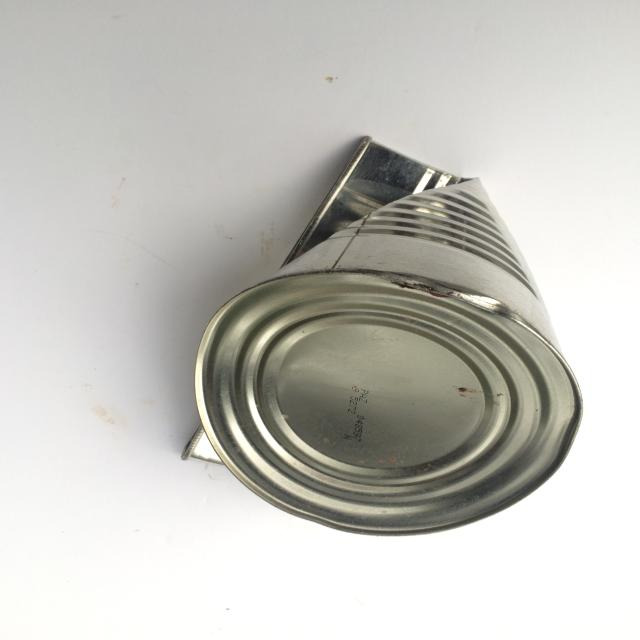metal: (181, 136, 584, 536)
